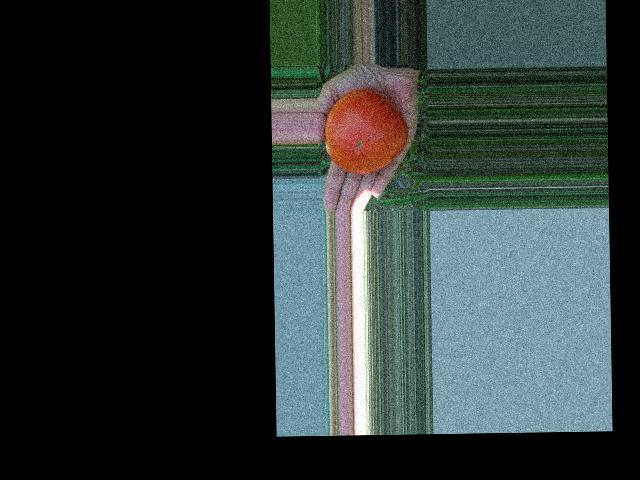tomato: (324, 88, 409, 175)
